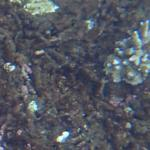dead: (3, 2, 146, 148)
